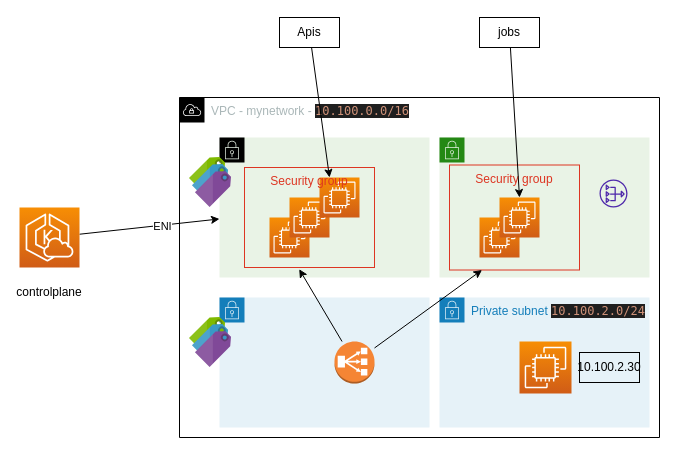
The diagram is 677 pixels wide and 455 high, and some of its shapes have lost their labels. Here are the shapes that lost their labels. From the top down, the box of each, then its label:
(218, 136, 430, 278): Public subnet 10.100.10.0/24
(438, 136, 650, 278): Public subnet 10.100.20.0/24
(218, 296, 430, 428): Private subnet 10.100.1.0/24
